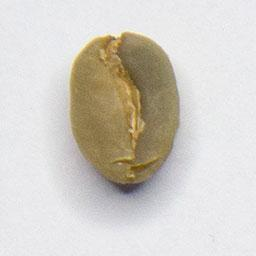premium: (66, 29, 183, 189)
